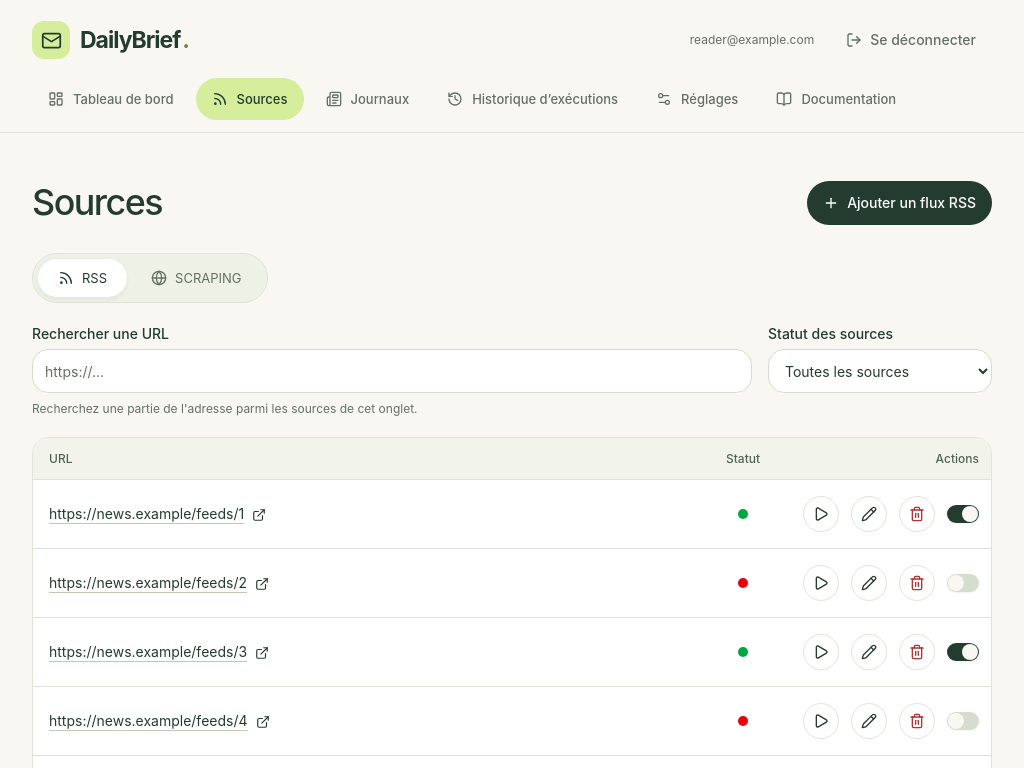
refreshes the active filter and pagination after disabling a source
Select "Actives" in the dropdown labelled "Statut des sources" at point(880, 371), box [768,349,992,393]
(page scrolled)
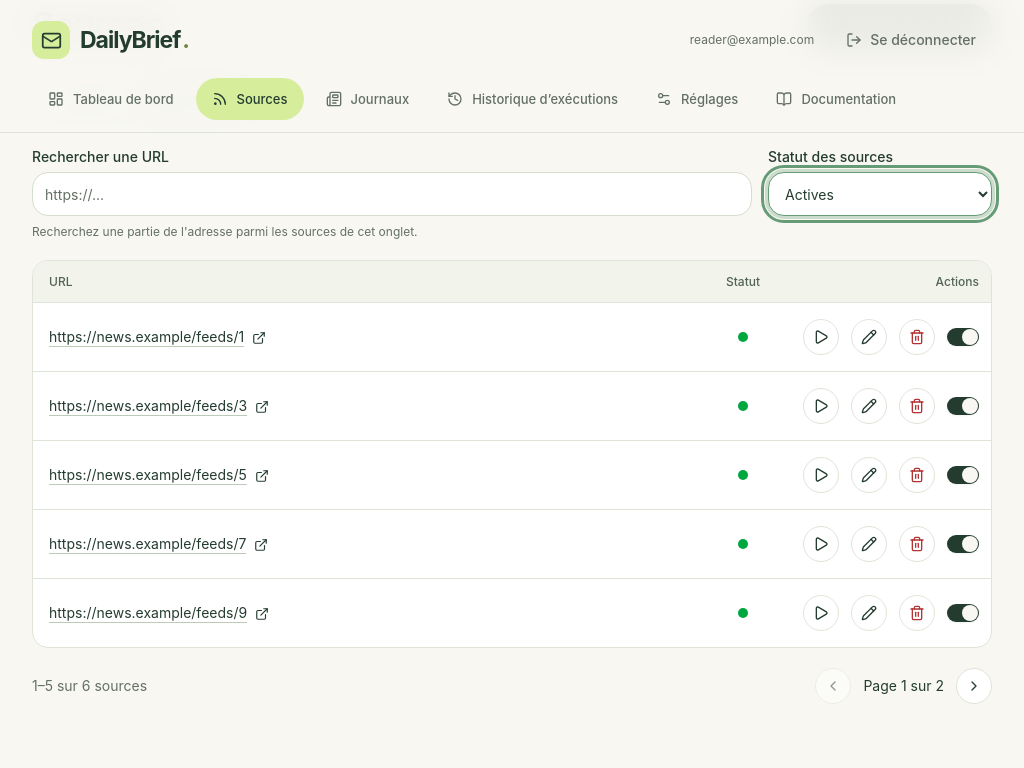
Now the text "1–5 sur 6 sources" is shown, box [32,676,147,696]
Click the button named "Page suivante" at point(974, 686), box [956,668,992,704]
(page scrolled)
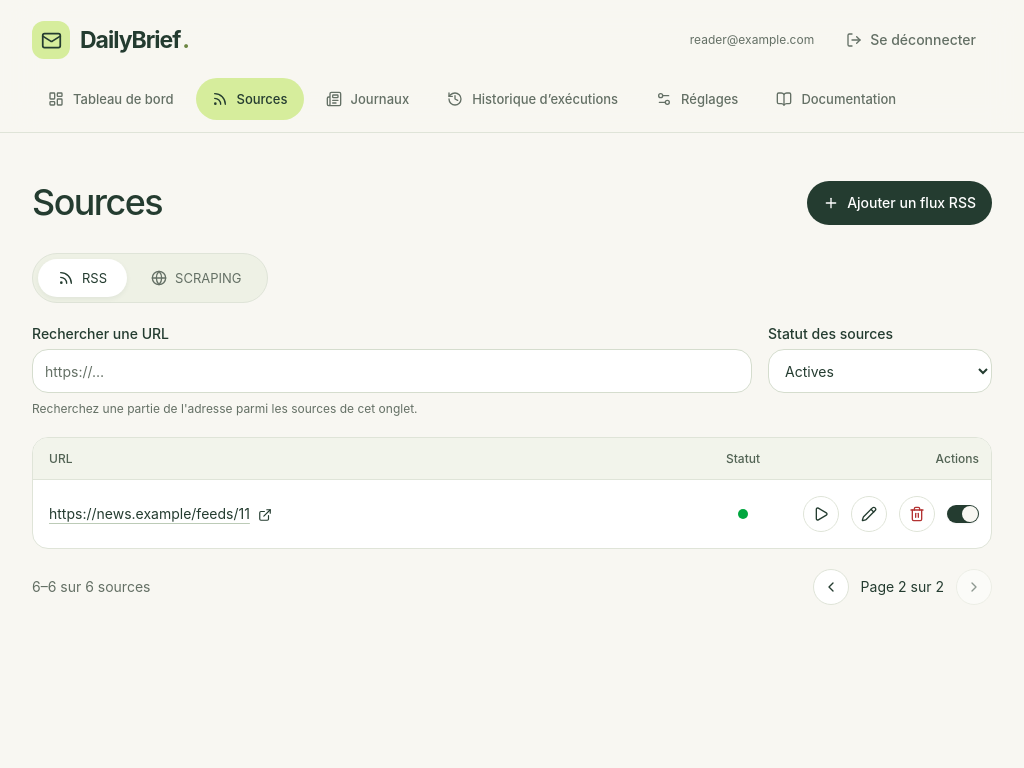
Now the text "Page 2 sur 2" is shown, box [861,577,944,597]
Click the switch named "Activer https://news.example/feeds/11" at point(963, 514), box [947,505,979,523]
(page scrolled)
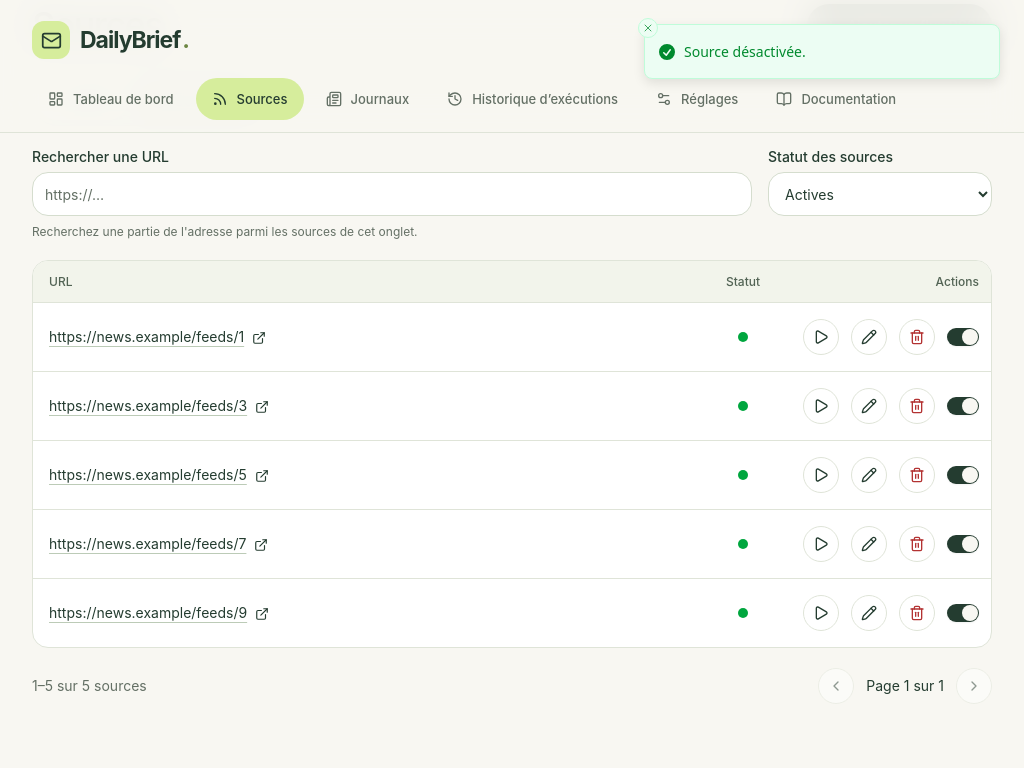
Now the text "Page 1 sur 1" is shown, box [866,676,944,696]
Now the number of links "https://news.example/feeds/1" is 5, box [49,328,266,345]; [49,397,269,414]; [49,466,269,483]; [49,535,268,552]; [49,604,269,621]
Now the link "https://news.example/feeds/11" is gone
